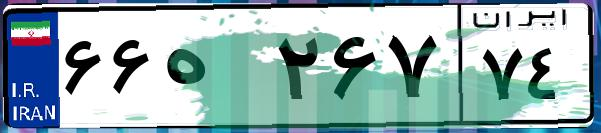2: (270, 28, 330, 110)
4: (525, 38, 570, 115)
6: (330, 28, 385, 110), (57, 26, 110, 100), (110, 28, 158, 98)
7: (385, 28, 445, 110), (475, 38, 525, 113)
ه: (158, 20, 270, 120)
